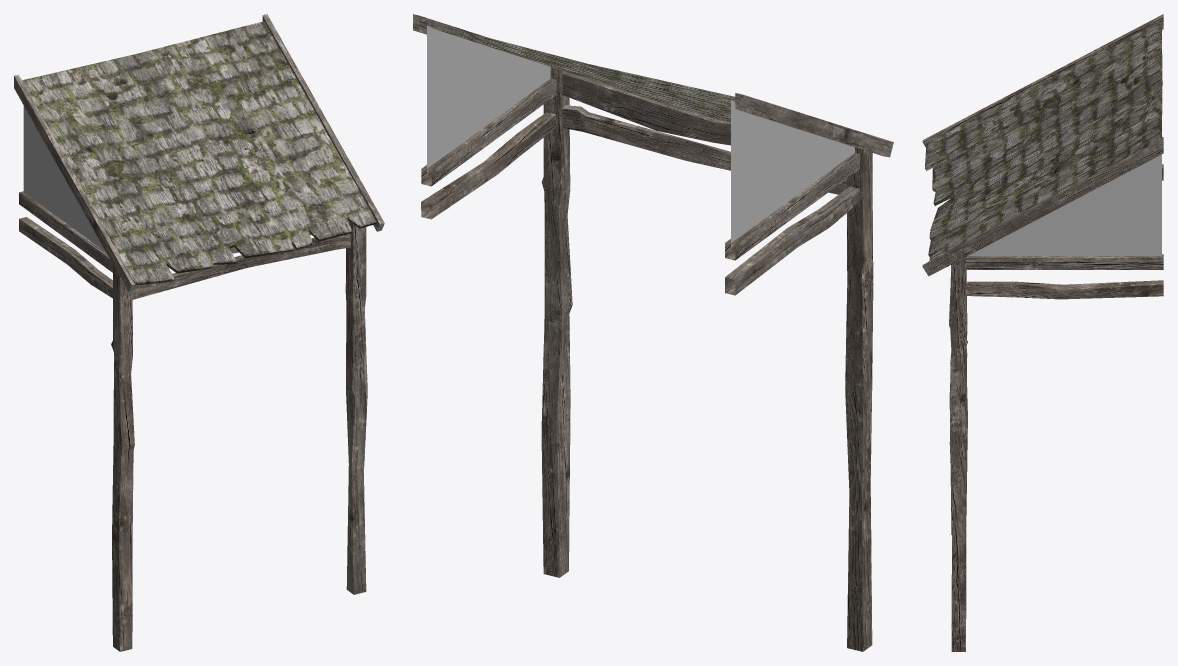
File: Shed4.fbx
3 views of the same model, side by side, from view 1: azimuth 30°, elevation 25°; view 2: azimuth 150°, elevation 25°; view 3: azimuth 270°, elevation 25° (orthographic). The views are drawn at different scales.
Visible parts, largest first — view 1: polySurface265; view 2: polySurface265; view 3: polySurface265.
Part boxes in pixels (x1=…): polySurface265: x1=14, y1=14, x2=384, y2=651; polySurface265: x1=413, y1=14, x2=893, y2=651; polySurface265: x1=922, y1=14, x2=1163, y2=651.
Size of the model in its own units: 3.13 by 5.92 by 2.52.
